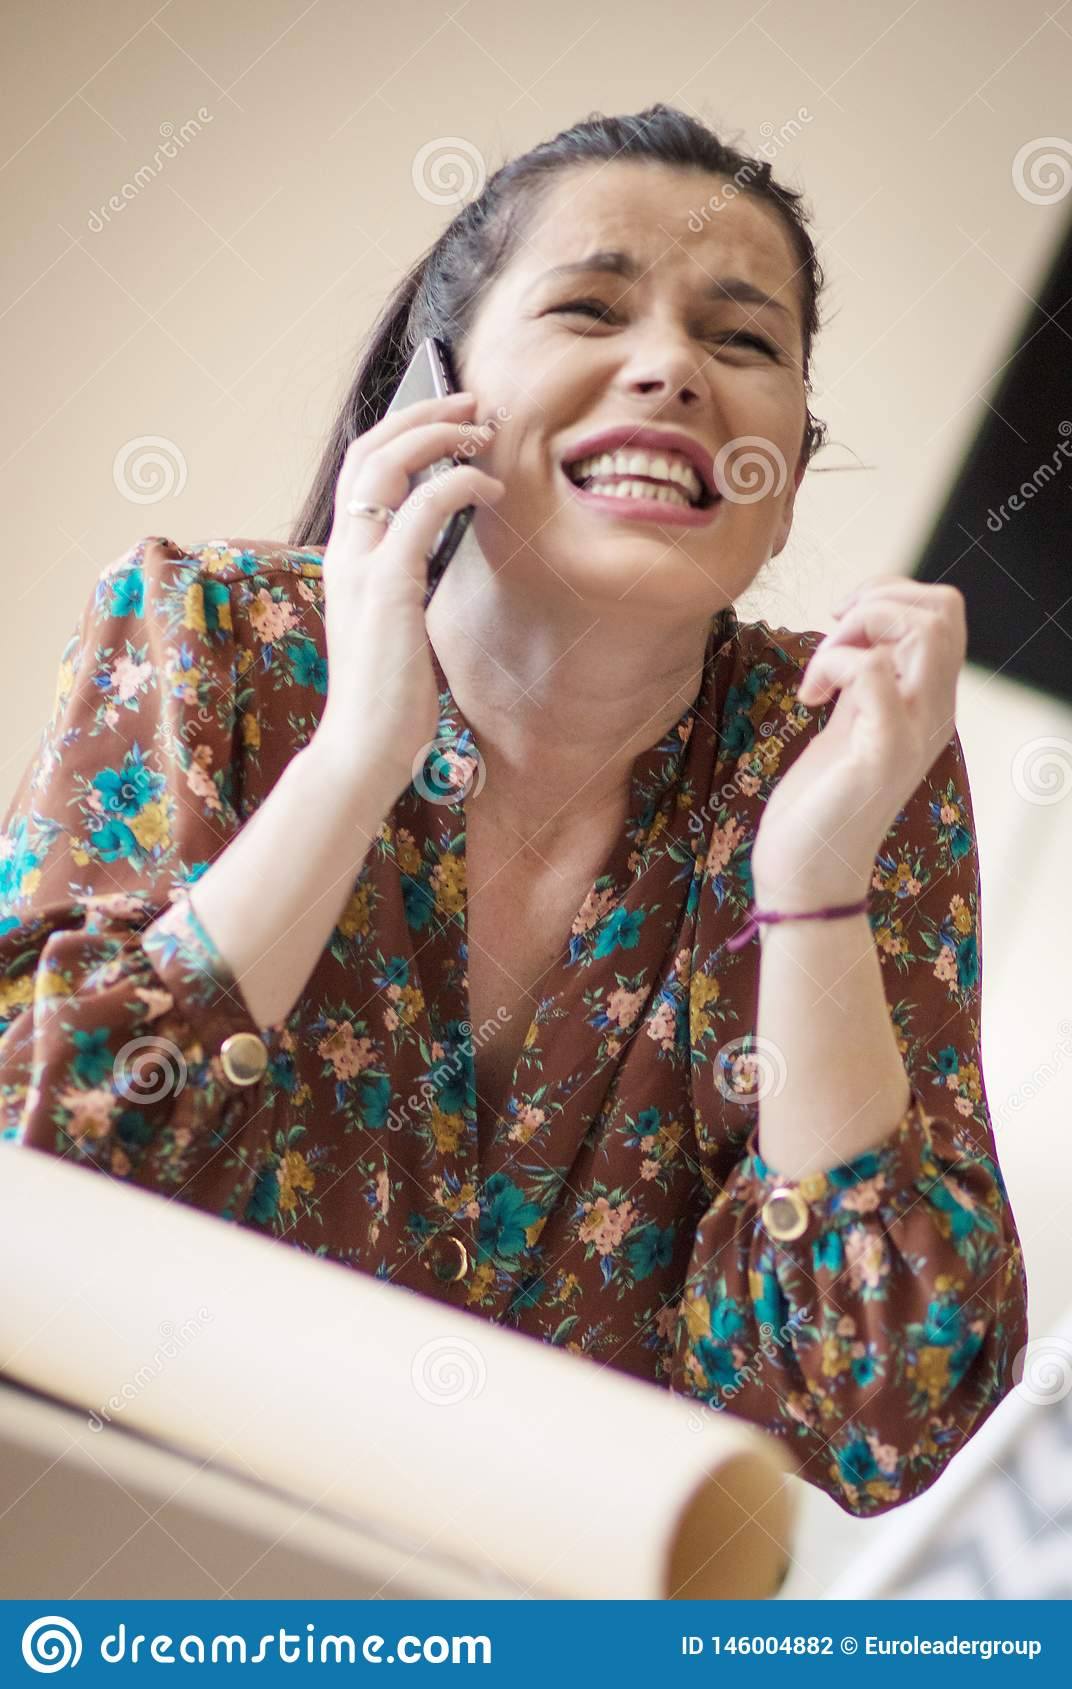phone: (359, 330, 476, 619)
talk: (300, 230, 793, 833)
